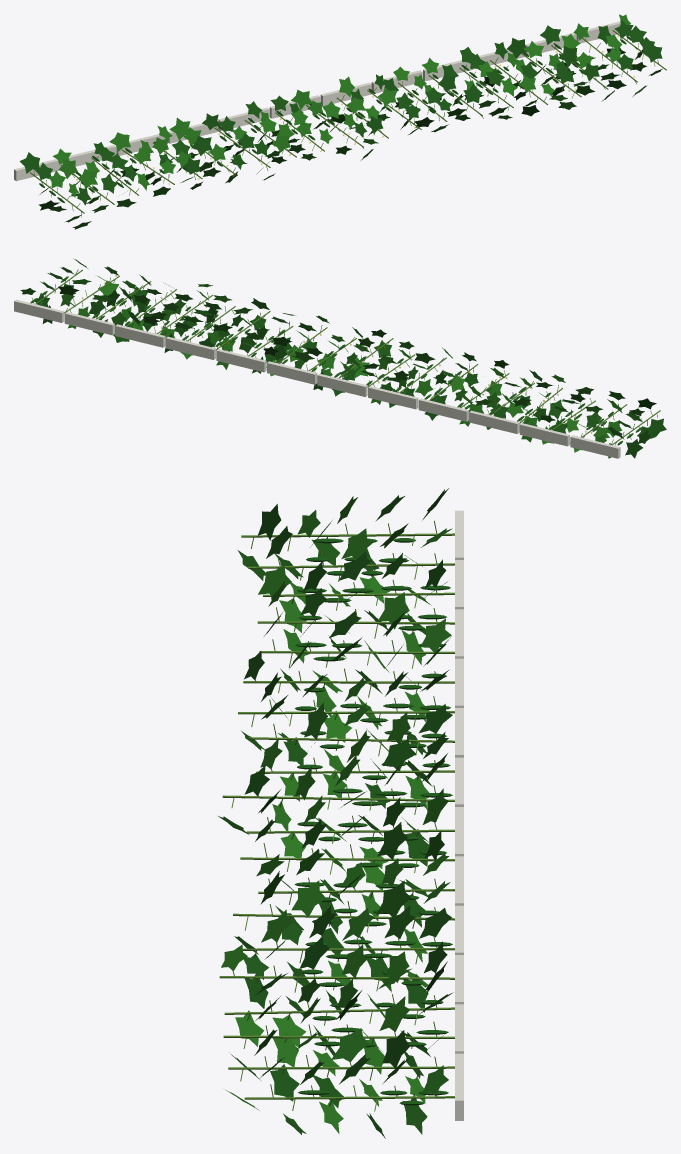
The model's file is row4.obj.
3 renders of one model, top to bottom at view 1: azimuth 30°, elevation 25°; view 2: azimuth 150°, elevation 25°; view 3: azimuth 270°, elevation 25°, orthographic. The views are drawn at different scales.
Visible parts, largest first — view 1: row4; view 2: row4; view 3: row4.
Boxes of the visible parts, <box> form: row4: <box>14,14,666,229</box>; row4: <box>14,258,666,458</box>; row4: <box>218,488,463,1138</box>.
Bounding box in the file's own units: 12.47 × 0.9244 × 2.2.
